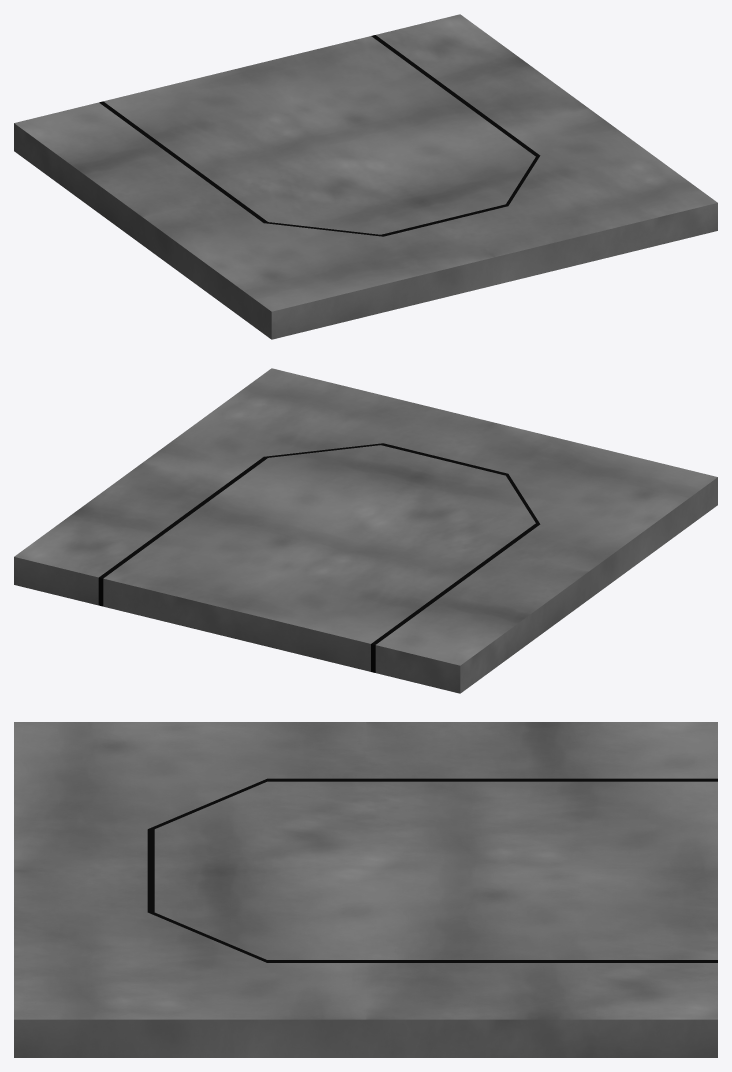
Rendered from Dirty Carbon Floor E.fbx.
The picture shows the model from 3 angles, top to bottom: view 1: azimuth 30°, elevation 25°; view 2: azimuth 150°, elevation 25°; view 3: azimuth 270°, elevation 25°; orthographic projection. The views are drawn at different scales.
Visible parts, largest first — view 1: dirty carbon grey Mesh (1), dirty carbon dark grey Mesh (1), white led Mesh (1); view 2: dirty carbon grey Mesh (1), dirty carbon dark grey Mesh (1), white led Mesh (1); view 3: dirty carbon grey Mesh (1), dirty carbon dark grey Mesh (1), white led Mesh (1).
Part boxes in pixels (x1,y1,x2,y2): dirty carbon grey Mesh (1): (14,14,717,339); dirty carbon dark grey Mesh (1): (103,36,535,234); white led Mesh (1): (99,35,540,236); dirty carbon grey Mesh (1): (14,368,717,693); dirty carbon dark grey Mesh (1): (103,445,535,671); white led Mesh (1): (98,443,540,672); dirty carbon grey Mesh (1): (14,722,717,1057); dirty carbon dark grey Mesh (1): (154,781,717,959); white led Mesh (1): (147,778,717,962).
Size of what is drawn, in the model's own units: 5 by 0.3 by 5.
